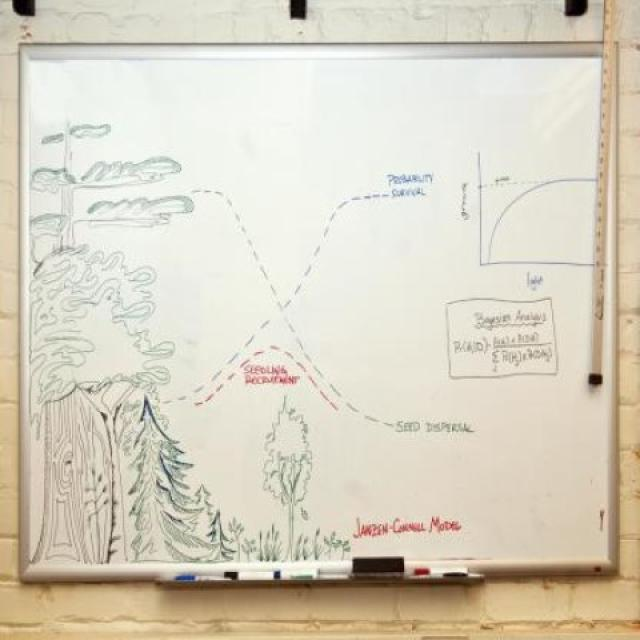White-board: (24, 51, 617, 571)
